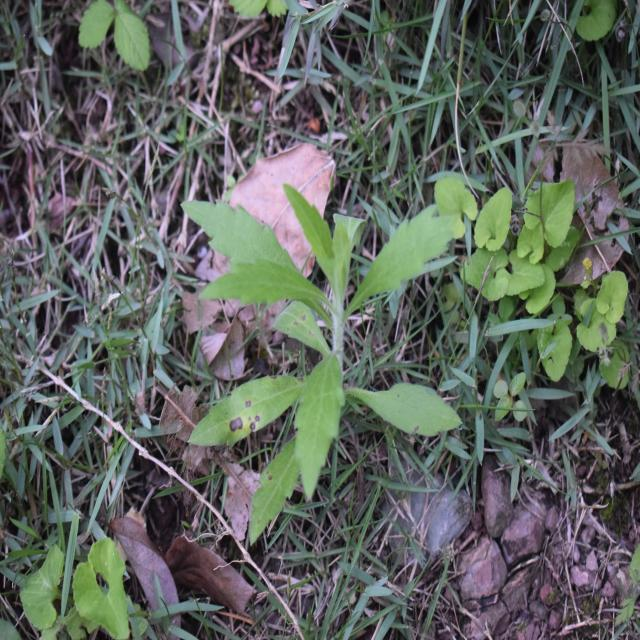horseweed: (200, 180, 454, 475)
